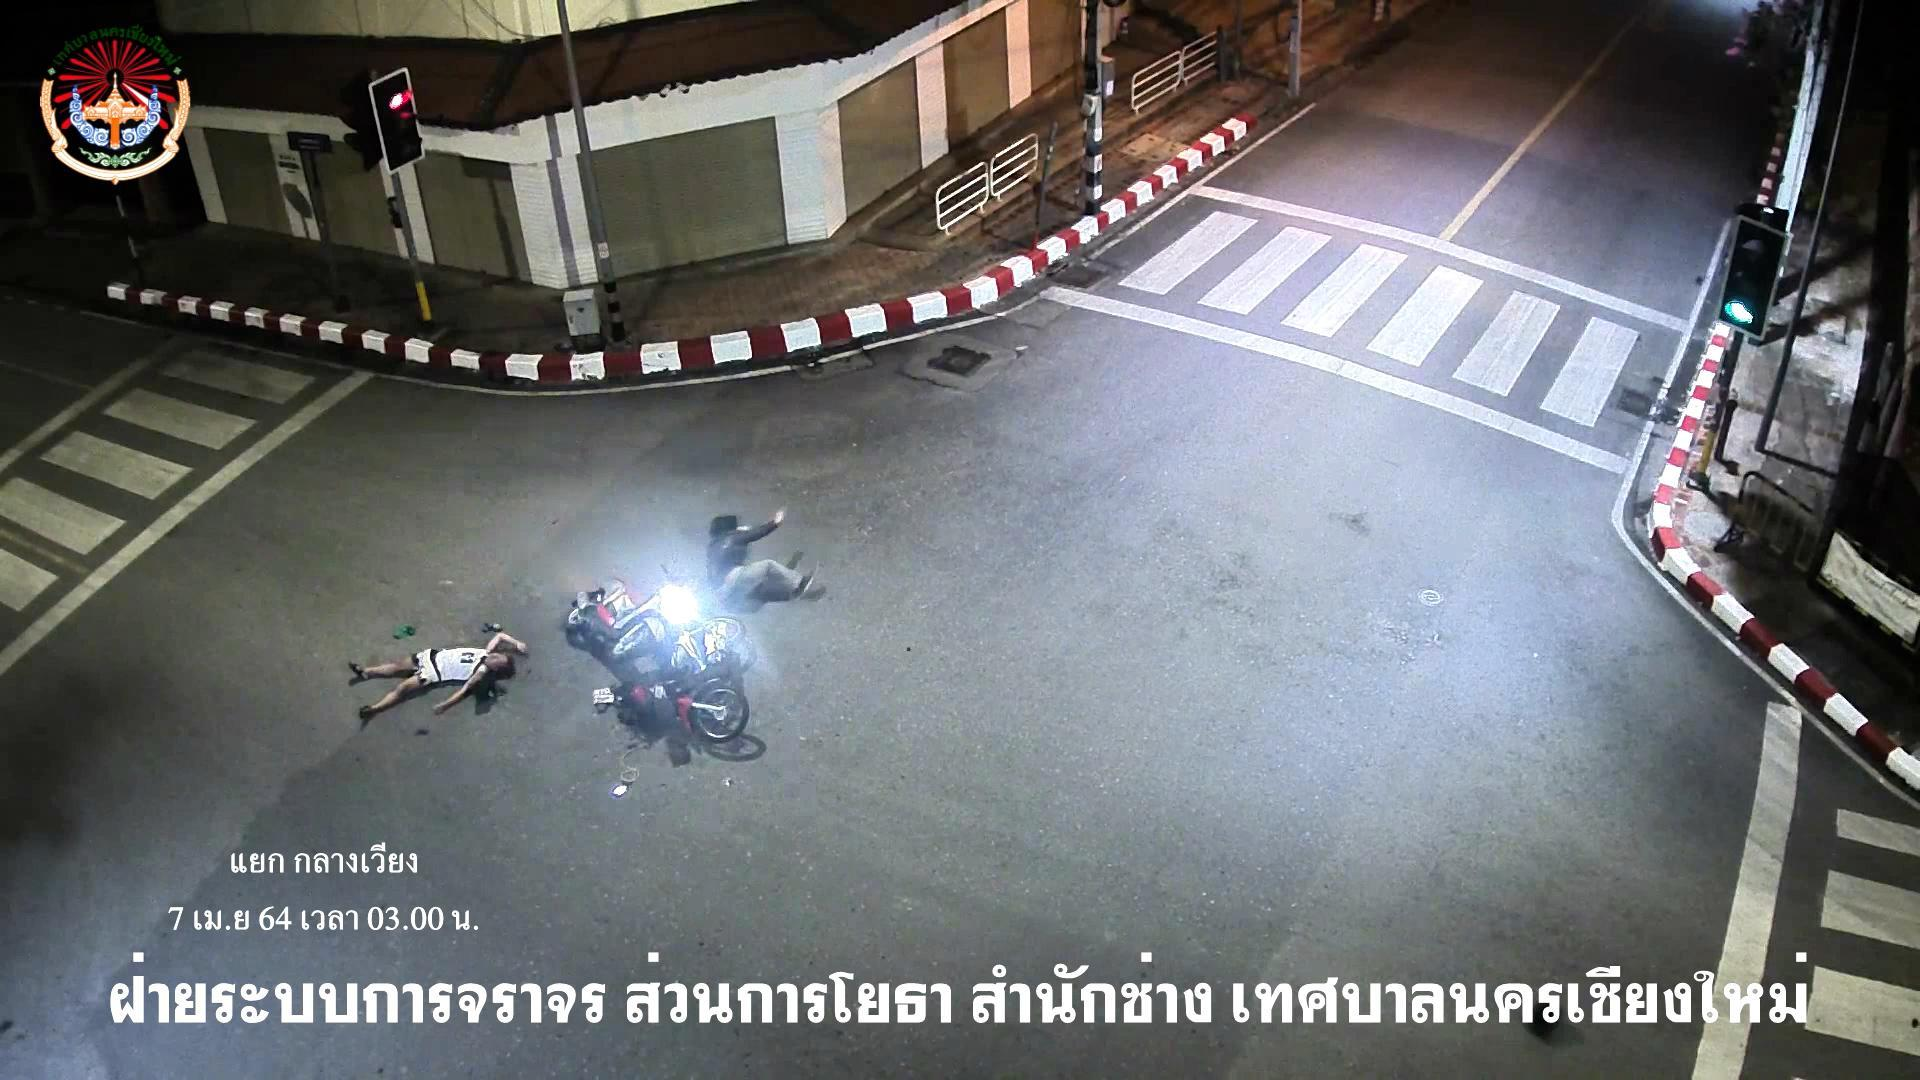accident: (335, 613, 531, 740), (695, 502, 827, 612)
